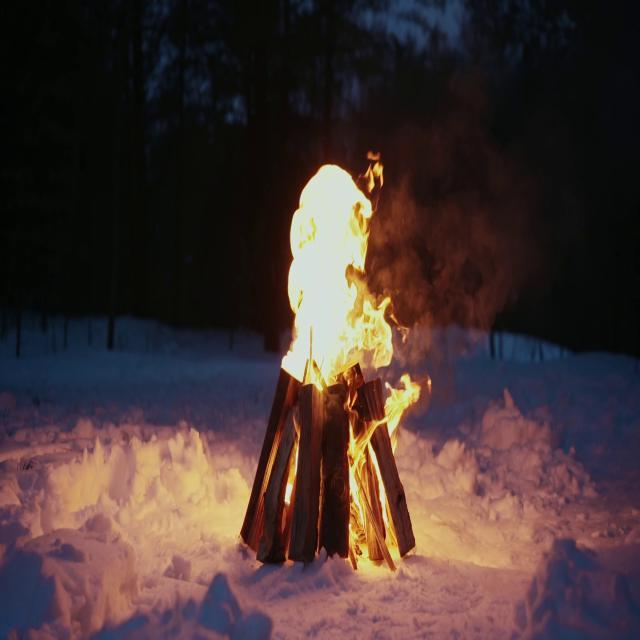Fire: (280, 155, 425, 558)
